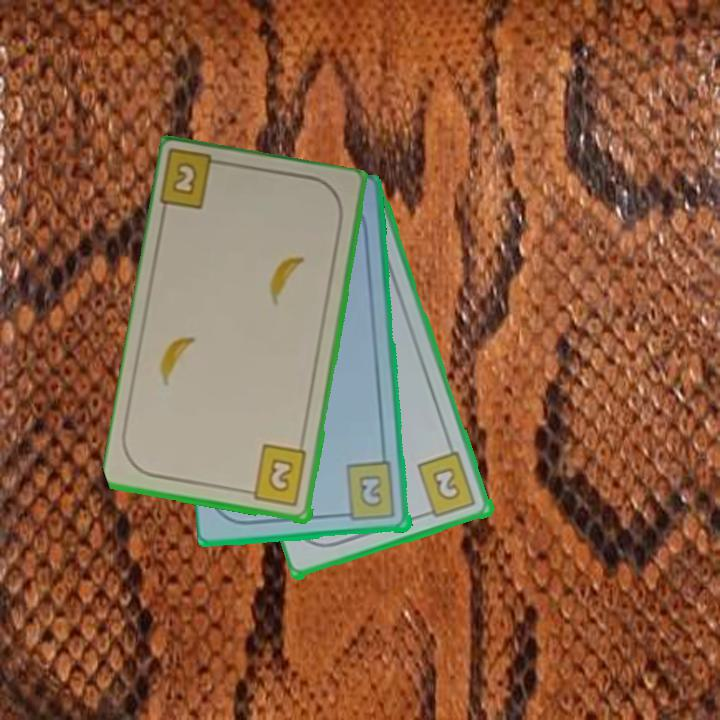2b: (158, 149, 232, 213), (241, 442, 310, 510), (414, 449, 479, 521), (337, 459, 399, 524)
